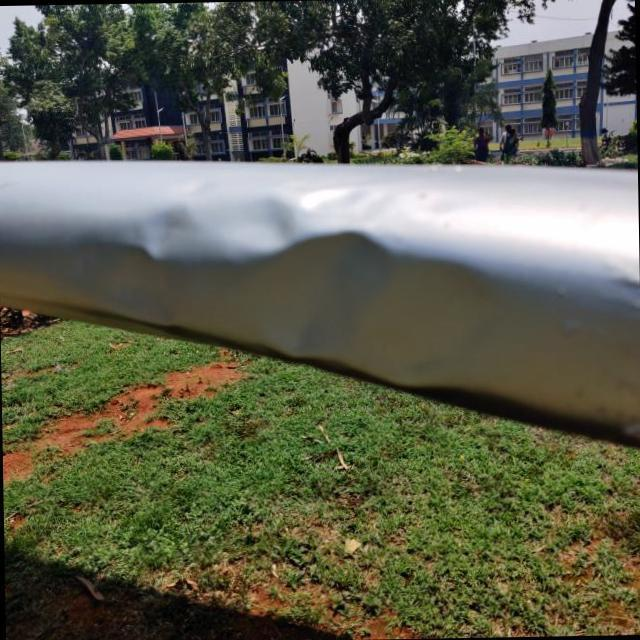dent: (60, 179, 528, 397)
